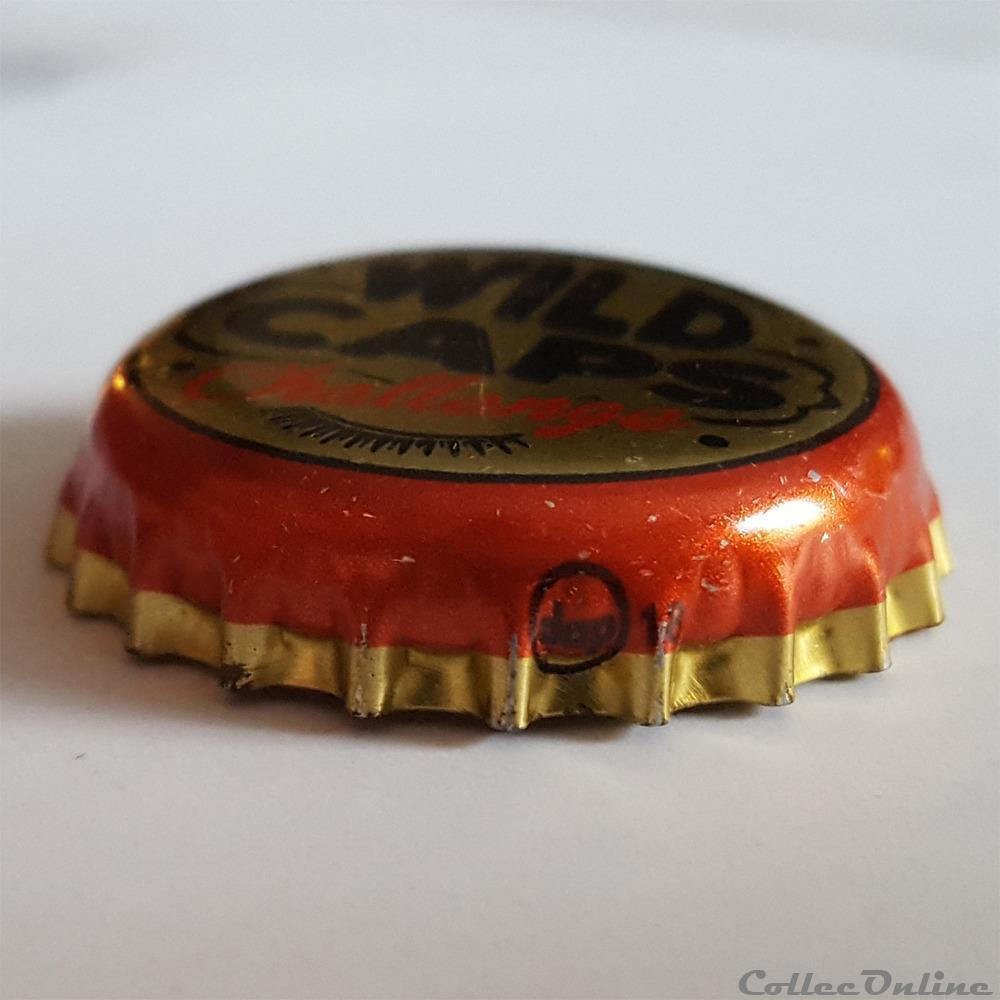metal: (47, 249, 952, 730)
